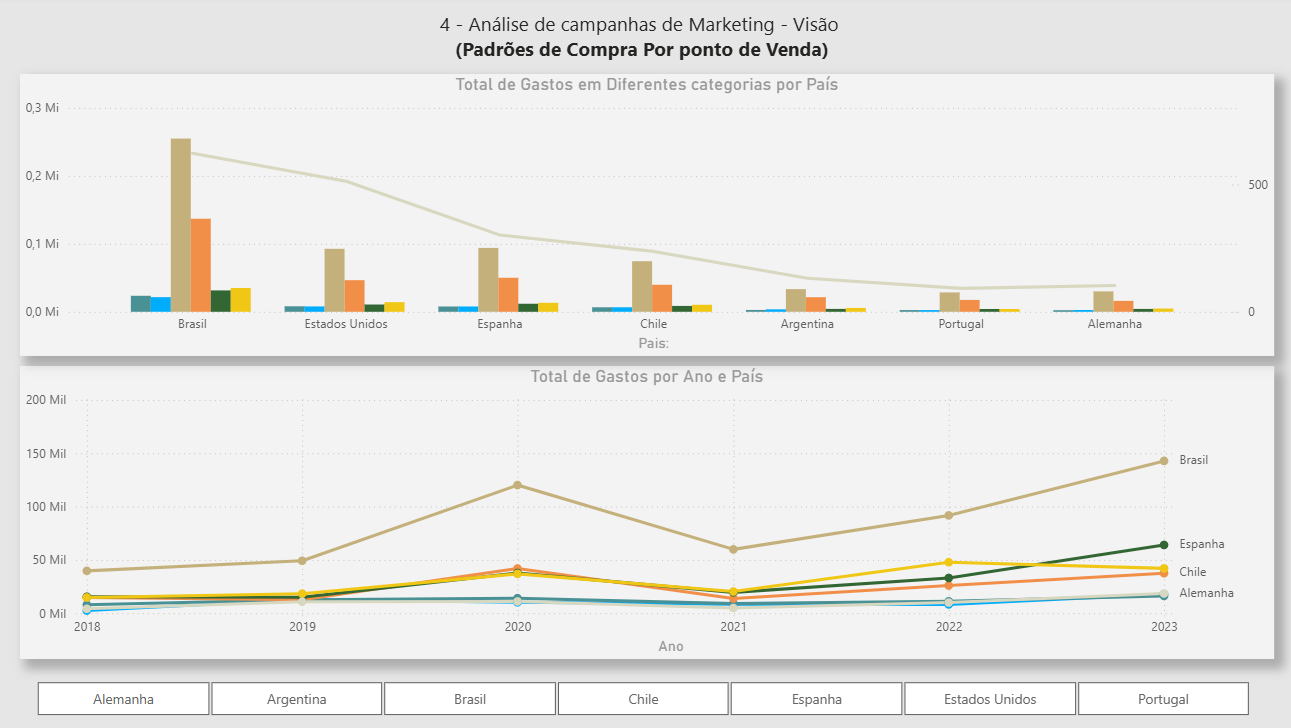

The page's visual inventory and layout, read from the dashboard file:
{"tool":"powerbi","page":{"name":"Visão Pontos de Venda","canvas":[1280,720],"ordinal":3},"visuals":[{"type":"textbox","box":[307.4,8.8,641.9,60.3],"z":0},{"type":"slicer","fields":{"Values":["Fmarketing.Pais"]},"box":[14.5,660.2,1228.3,45.5],"z":1000},{"type":"lineClusteredColumnComboChart","title":"Total de Gastos em Diferentes categorias por País","fields":{"Category":["Fmarketing.Pais"],"Y":["Sum(Fmarketing.Gasto com Alimentos)","Sum(Fmarketing.Gasto com Brinquedos)","Sum(Fmarketing.Gasto com Eletronicos)","Sum(Fmarketing.Gasto com Moveis)","Sum(Fmarketing.Gasto com Utilidades)","Sum(Fmarketing.Gasto com Vestuario)"],"Y2":["CountNonNull(Fmarketing.ID)"]},"box":[23.3,75.9,1219.7,274.3],"z":2000},{"type":"lineChart","title":"Total de Gastos por Ano e País","fields":{"Category":["Fmarketing.Data Cadastro.Variation.Hierarquia de datas.Ano"],"Series":["Fmarketing.Pais"],"Y":["Fmarketing.TotalGasto"]},"box":[23.3,359.9,1219.7,285],"z":3000}]}

Visuals, with their boxes in screenshot pixels (x1, y1, x2, y2), scaled from the page's 1280x720 canvas onto the 1291x728 screenshot:
textbox: detection(310, 9, 957, 70)
slicer - Fmarketing.Pais: detection(15, 668, 1253, 714)
"Total de Gastos em Diferentes categorias por País" lineClusteredColumnComboChart: detection(24, 77, 1254, 354)
"Total de Gastos por Ano e País" lineChart: detection(24, 364, 1254, 652)
